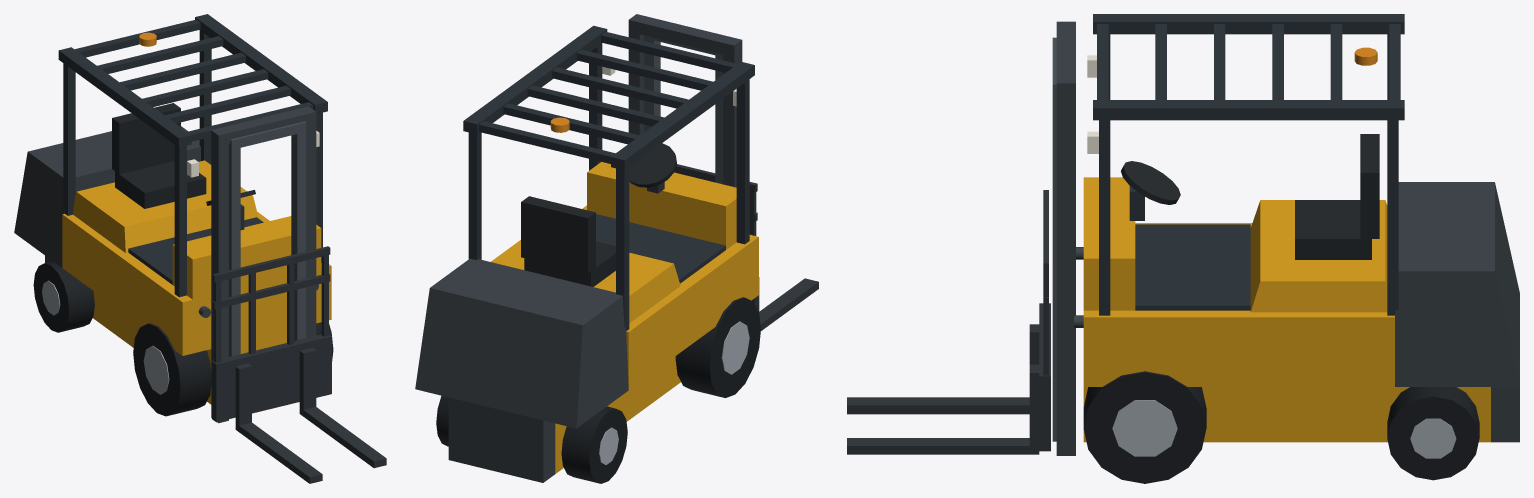
The model's file is forklift.glb.
3 renders of one model, left to right at view 1: azimuth 30°, elevation 25°; view 2: azimuth 150°, elevation 25°; view 3: azimuth 270°, elevation 25°, orthographic. The views are drawn at different scales.
Parts seen in each view (by area): view 1: body_matte, body_paint, forks, mast_inner; view 2: body_paint, body_matte, forks, mast_inner; view 3: body_paint, body_matte, forks, mast_inner.
Part boxes in pixels (x1,y1,x2,y2): body_matte: (33,14,333,423); body_paint: (14,32,331,404); forks: (212,246,386,483); mast_inner: (229,121,305,356); body_paint: (415,66,758,482); body_matte: (436,14,760,483); forks: (674,164,818,330); mast_inner: (644,35,723,184); body_paint: (1083,47,1519,458); body_matte: (1056,14,1479,483); forks: (847,190,1050,454); mast_inner: (1052,37,1056,441).
Size of the model in its own units: 1.2 by 2.2 by 3.5.
